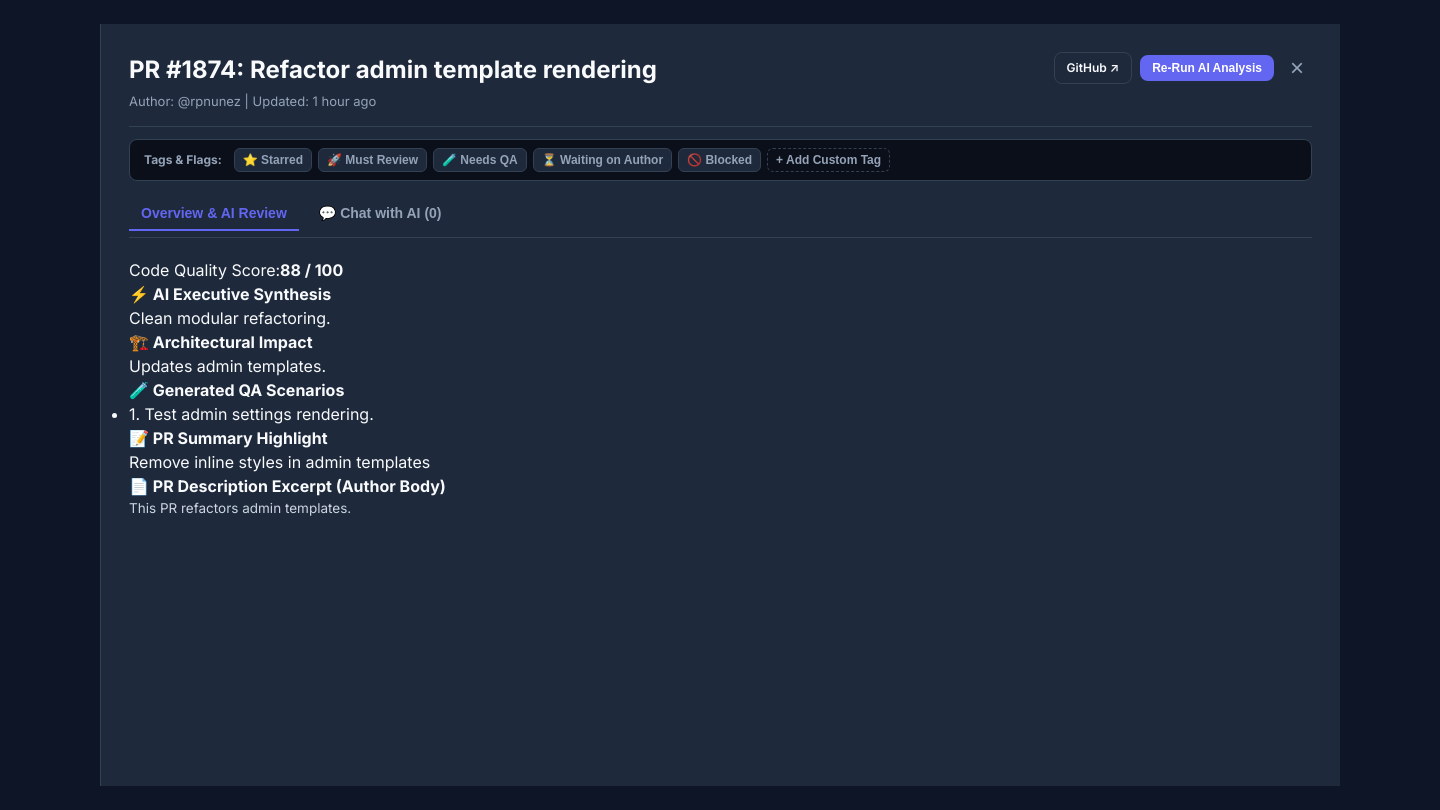
Scenario: PRDetailDrawer Component › switches to chat tab on click
Check: the heading "PR #1874: Refactor admin template rendering" is shown, box left=129, top=52, right=657, bottom=88
Click the button "💬 Chat with AI (0)" at {"x": 380, "y": 214}, box left=307, top=196, right=454, bottom=230
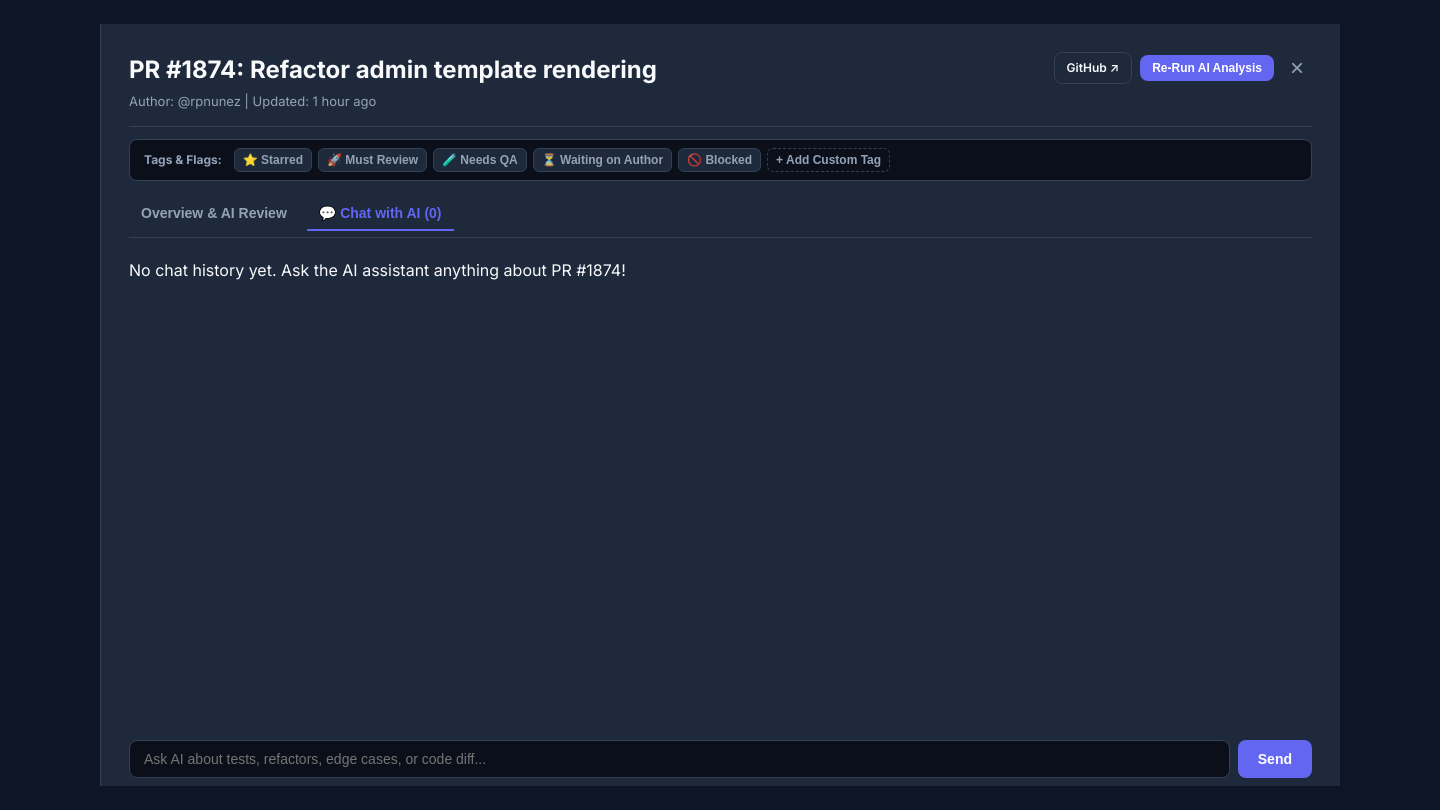
Check: the field with placeholder "Ask AI about tests, refactors, edge cases, or code diff..." is shown, box left=129, top=740, right=1230, bottom=778
